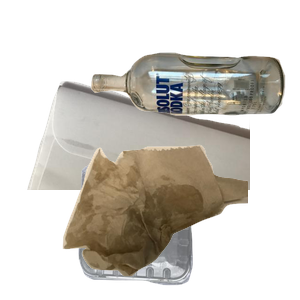glass: (88, 50, 300, 158)
paper: (25, 79, 265, 259)
plastic: (76, 162, 264, 300)
trash: (60, 142, 300, 300)
